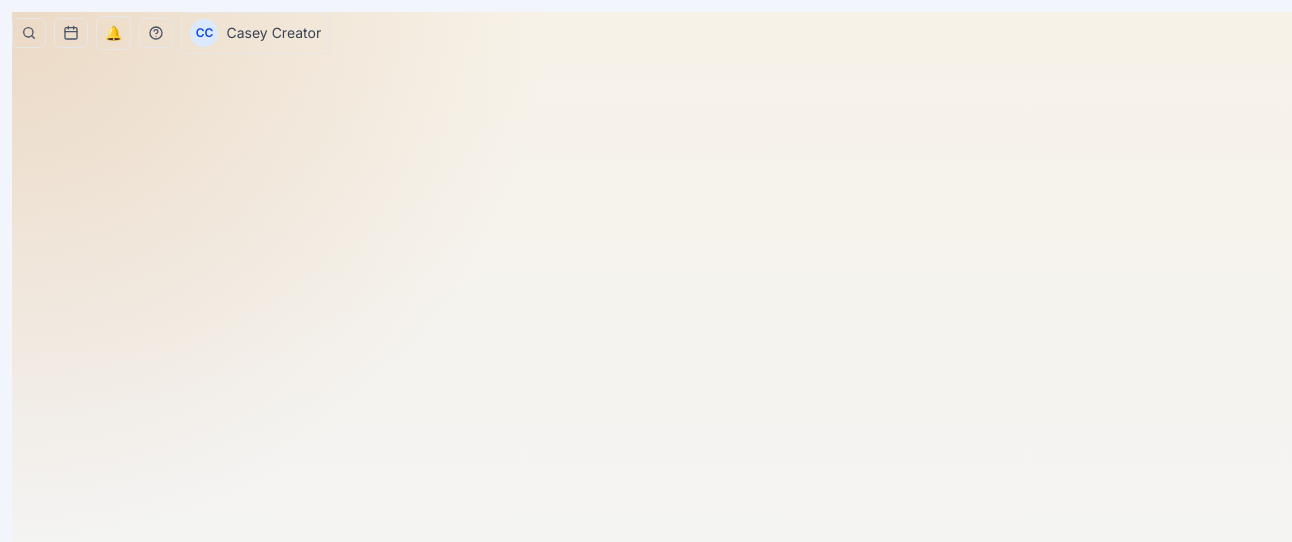
TopRightQuickActions › loads and displays today's schedule in a top-right dropdown
The image size is (1292, 542).
Click the button named "Today's schedule": (71, 33) top-left (54, 18), bottom-right (88, 48)
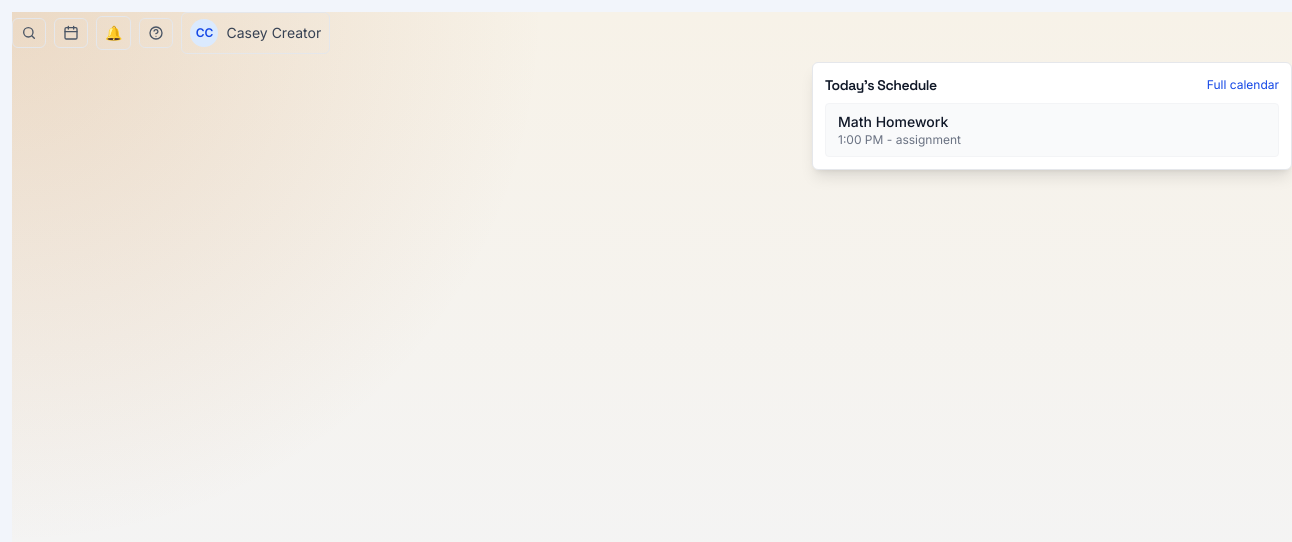
Expected: the heading "Today's Schedule" is shown, top-left (825, 75), bottom-right (937, 95)
Expected: the text "Math Homework" is shown, top-left (838, 113), bottom-right (948, 130)
